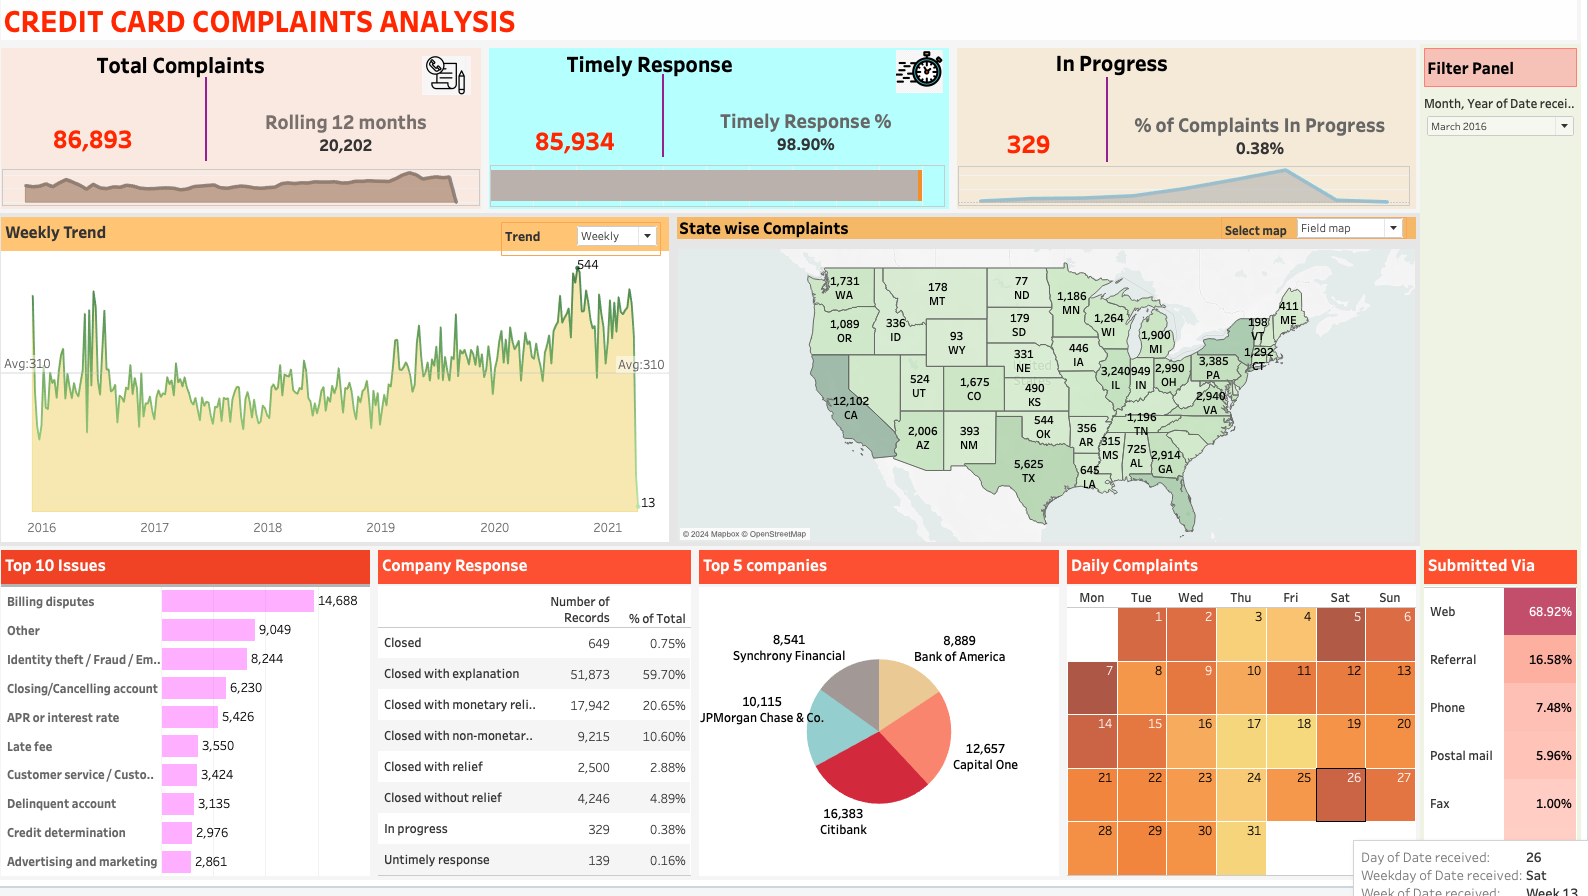

The dashboard page shown, as its layout file describes it:
{"tool":"tableau","page":{"name":"Dashboard 1","canvas":[1600,900],"ordinal":0},"visuals":[{"type":"title","box":[8,8,1584,48]},{"type":"blank","box":[8,56,488,169]},{"type":"blank","box":[496,56,467.5,169]},{"type":"blank","box":[963.5,56,467.5,169]},{"type":"text","box":[1431,56,161,47]},{"type":"text","box":[105,58,174,37]},{"type":"text","box":[1064,59,151,31]},{"type":"text","box":[575,60,172,31]},{"type":"image","param":"Image/Screenshot 2024-07-28 at 14.25.54.png","box":[907,62,48,43]},{"type":"image","param":"Image/Screenshot 2024-07-28 at 14.22.25.png","box":[433,68,49,39]},{"type":"blank","box":[673,86,2,83]},{"type":"blank","box":[216,89,2,84]},{"type":"blank","box":[1117,89,2,85]},{"type":"filter","title":"Top 5 companies","param":"[federated.14bfh510pq8a7813i3azs1gn0keh].[none:Company:nk]","box":[1431,103,161,111]},{"type":"worksheet","title":"Timely Response %","mark":"Automatic","box":[677,113,280,60]},{"type":"worksheet","title":"Total Complaints","mark":"Automatic","box":[14,116,180,53]},{"type":"worksheet","title":"Rolling 12 months","mark":"Automatic","box":[241,116,231,55]},{"type":"worksheet","title":"Timely Response","mark":"Automatic","box":[503,116,166,56]},{"type":"worksheet","title":"In Progress %","mark":"Automatic","box":[1120,119,301,55]},{"type":"worksheet","title":"In Progress","mark":"Automatic","box":[970,121,140,53]},{"type":"worksheet","title":"Timely Response Bar","mark":"Bar","cols":["Calculation_23503203723952134","Calculation_23503203720376322"],"box":[501,177,455,42]},{"type":"worksheet","title":"In Progress Sparkline","mark":"Automatic","rows":["Calculation_23503203727564807","Calculation_23503203727564807"],"cols":["Date received"],"box":[969,178,452,40]},{"type":"worksheet","title":"complaints sparkline","mark":"Area","rows":["Number of Records","Number of Records"],"cols":["Date received"],"box":[13,181,478,37]},{"type":"filter","title":"Field map","param":"[federated.14bfh510pq8a7813i3azs1gn0keh].[none:State:nk]","box":[1431,214,161,52]},{"type":"worksheet","title":"Trend","mark":"Automatic","rows":["Number of Records","Number of Records"],"cols":["Calculation_26529059865296896"],"box":[8,225,676,333.5]},{"type":"text","box":[684,225,747,30]},{"type":"parameter","param":"[Parameters].[Parameter 3]","box":[1232,229,186,22]},{"type":"parameter","param":"[Parameters].[Parameter 2]","box":[512,234,160,34]},{"type":"worksheet","title":"Density map","mark":"Heatmap","box":[684,255,747,1]},{"type":"worksheet","title":"Field map","mark":"Multipolygon","box":[684,256,747,302.5]},{"type":"filter","title":"Daily Complaints","param":"[federated.14bfh510pq8a7813i3azs1gn0keh].[my:Date received:ok]","box":[1431,266,161,63]},{"type":"worksheet","title":"Submitted Via","mark":"Square","rows":["Submitted via"],"box":[1431,558,161,334]},{"type":"worksheet","title":"Top 10 Issues","mark":"Automatic","rows":["Complaint Category"],"cols":["Number of Records"],"box":[8,558.5,377,333.5]},{"type":"worksheet","title":"Company Response","mark":"Automatic","rows":["Company response to consumer"],"box":[385,558.5,321,333.5]},{"type":"worksheet","title":"Top 5 companies","mark":"Pie","box":[706,558.5,368,333.5]},{"type":"worksheet","title":"Daily Complaints","mark":"Square","rows":["Date received"],"cols":["Date received"],"box":[1074,558.5,356.9,333.5]}]}

Visuals, with their boxes in screenshot pixels (x1, y1, x2, y2), scaled from the page's 1600x900 canvas onto the 1588x896 screenshot:
title: [8, 8, 1580, 56]
blank: [8, 56, 492, 224]
blank: [492, 56, 956, 224]
blank: [956, 56, 1420, 224]
text: [1420, 56, 1580, 103]
text: [104, 58, 277, 95]
text: [1056, 59, 1206, 90]
text: [571, 60, 741, 91]
image: [900, 62, 948, 105]
image: [430, 68, 478, 107]
blank: [668, 86, 670, 168]
blank: [214, 89, 216, 172]
blank: [1109, 89, 1111, 173]
"Top 5 companies" filter: [1420, 103, 1580, 213]
"Timely Response %" worksheet: [672, 112, 950, 172]
"Total Complaints" worksheet: [14, 115, 193, 168]
"Rolling 12 months" worksheet: [239, 115, 468, 170]
"Timely Response" worksheet: [499, 115, 664, 171]
"In Progress %" worksheet: [1112, 118, 1410, 173]
"In Progress" worksheet: [963, 120, 1102, 173]
"Timely Response Bar" worksheet (Bar marks): [497, 176, 949, 218]
"In Progress Sparkline" worksheet: [962, 177, 1410, 217]
"complaints sparkline" worksheet (Area marks): [13, 180, 487, 217]
"Field map" filter: [1420, 213, 1580, 265]
"Trend" worksheet: [8, 224, 679, 556]
text: [679, 224, 1420, 254]
parameter: [1223, 228, 1407, 250]
parameter: [508, 233, 667, 267]
"Density map" worksheet (Heatmap marks): [679, 254, 1420, 255]
"Field map" worksheet (Multipolygon marks): [679, 255, 1420, 556]
"Daily Complaints" filter: [1420, 265, 1580, 328]
"Submitted Via" worksheet (Square marks): [1420, 556, 1580, 888]
"Top 10 Issues" worksheet: [8, 556, 382, 888]
"Company Response" worksheet: [382, 556, 701, 888]
"Top 5 companies" worksheet (Pie marks): [701, 556, 1066, 888]
"Daily Complaints" worksheet (Square marks): [1066, 556, 1420, 888]
